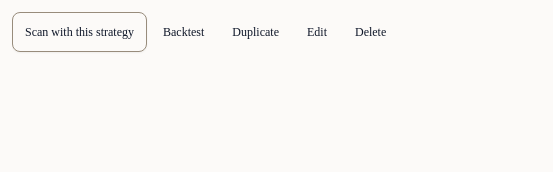
Test: StrategyActions › announces a failed delete as an alert
Click the button with aria-label "Delete: My setup" at (371, 32), box [343,12,398,52]
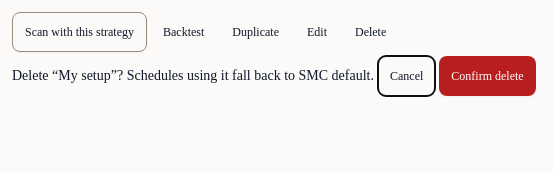
Click the button "Confirm delete" at (487, 76), box [439,56,536,96]
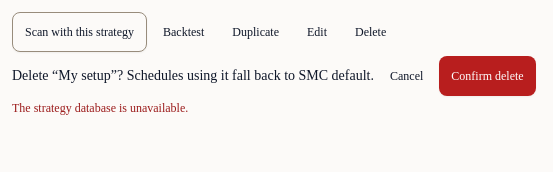
Check: the message reads "The strategy database is unavailable.", box [12,101,188,115]
